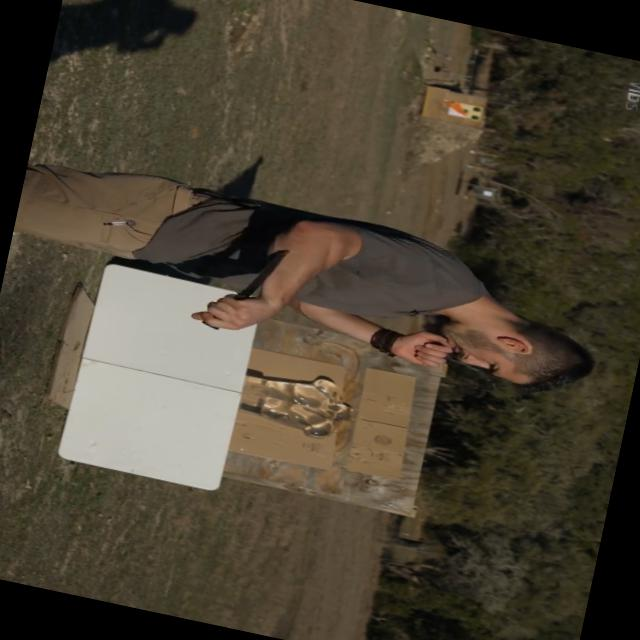knife: (186, 228, 305, 350)
